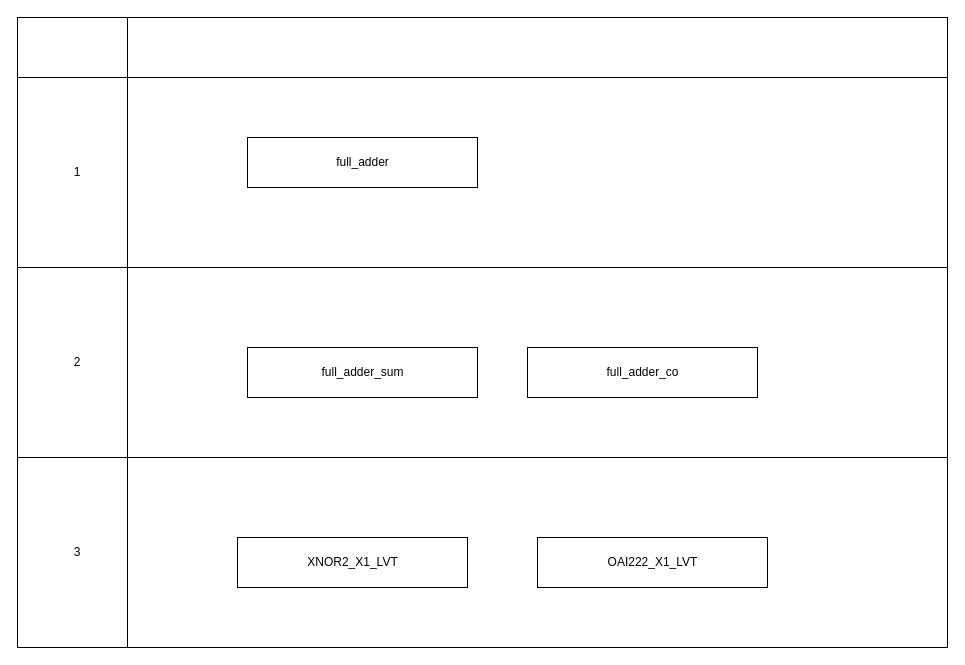
Some shapes in this 965 by 665 pixel diagram are drawn without their labels. Here are the shapes that lost their labels. From the top down, the centre of each, then its label:
At (x=77, y=47): "层级".
At (x=537, y=47): "模块名".
